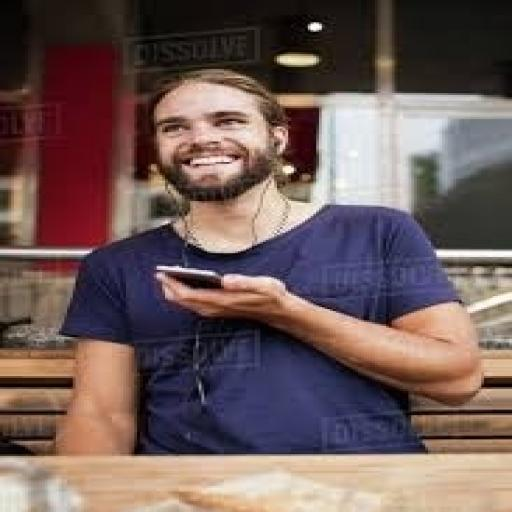listening_to_music: (50, 65, 487, 458)
